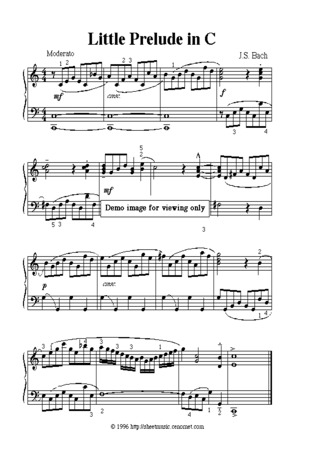Partitura: (18, 27, 275, 431)
